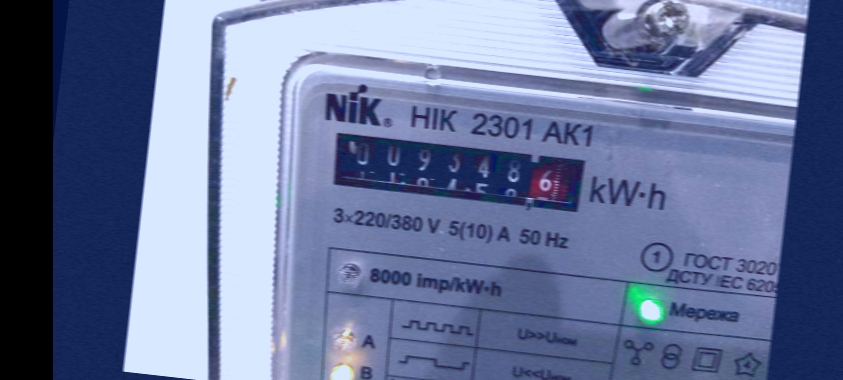0: (356, 136, 372, 164), (386, 140, 403, 164)
3: (446, 145, 463, 173)
4: (476, 149, 493, 177)
6: (537, 163, 557, 191)
8: (506, 153, 524, 183)
9: (415, 143, 433, 171)
screen: (322, 121, 597, 220)
